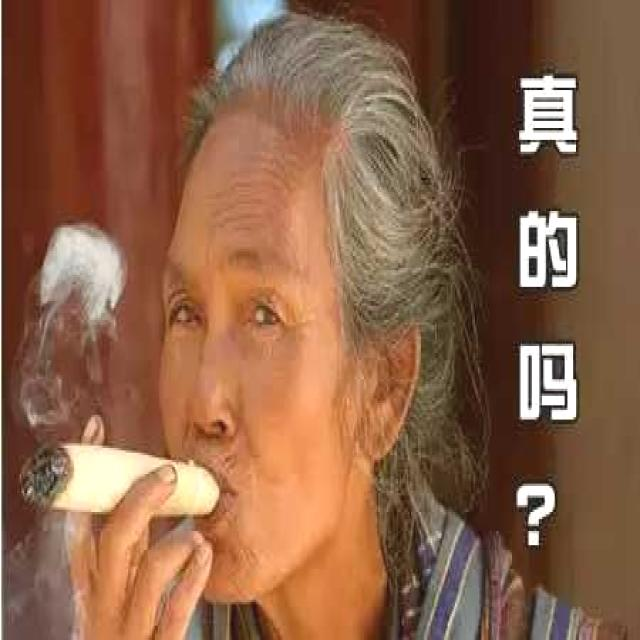Smooking: (8, 413, 220, 555)
